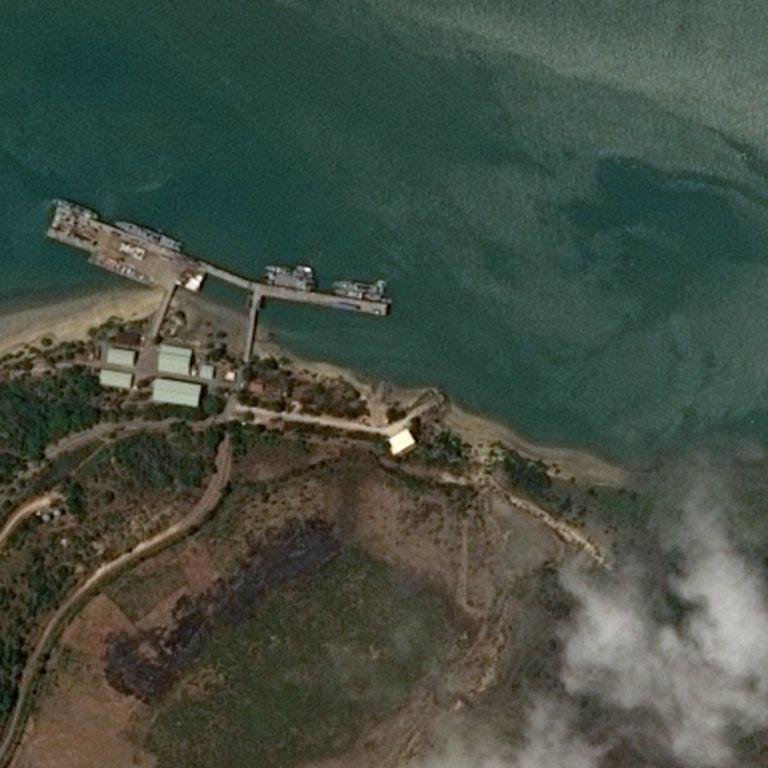ship: (335, 294, 382, 297), (333, 284, 386, 285), (264, 269, 286, 270), (378, 68, 381, 70), (265, 266, 267, 268), (378, 295, 381, 296), (334, 283, 335, 285), (382, 58, 383, 59), (336, 291, 337, 292), (53, 41, 54, 42), (381, 284, 383, 284), (284, 268, 284, 269)
